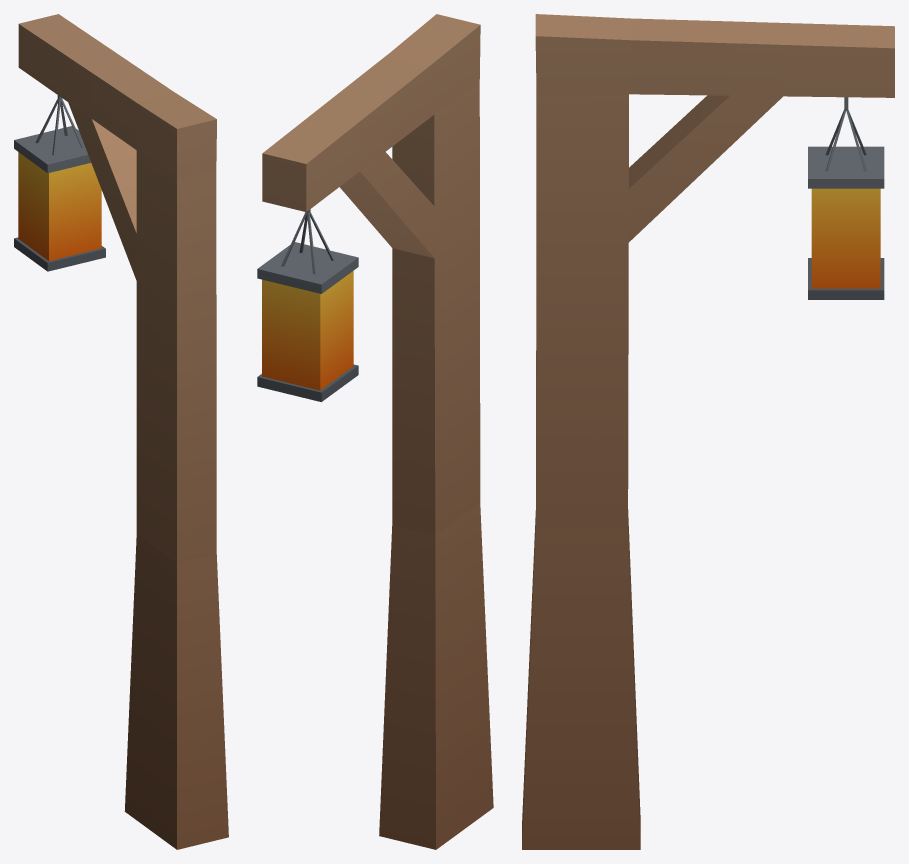
File: lanternPost.fbx
The picture shows the model from 3 angles, left to right: view 1: azimuth 30°, elevation 25°; view 2: azimuth 150°, elevation 25°; view 3: azimuth 270°, elevation 25°; orthographic projection. The views are drawn at different scales.
Parts seen in each view (by area): view 1: lampPost; view 2: lampPost; view 3: lampPost.
Part boxes in pixels (left/top/right/bottom): lampPost: left=14, top=14, right=228, bottom=849; lampPost: left=257, top=14, right=493, bottom=849; lampPost: left=522, top=14, right=894, bottom=849.
Size of the model in its own units: 28.54 by 334 by 139.
